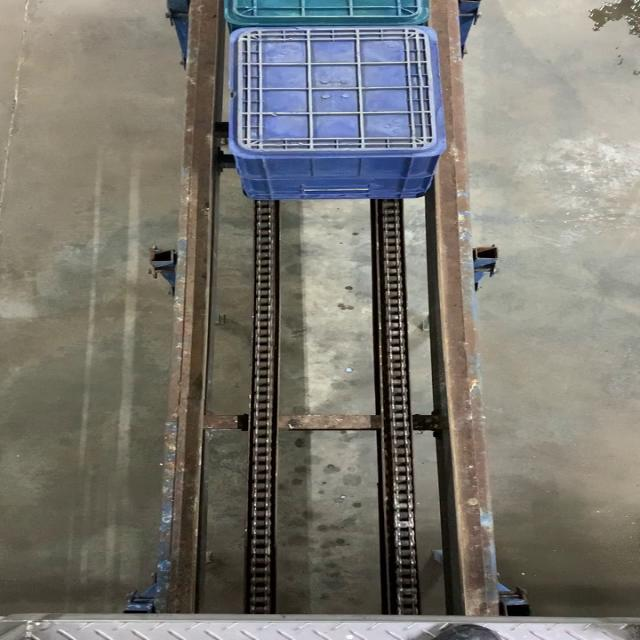Box: (237, 26, 439, 154)
